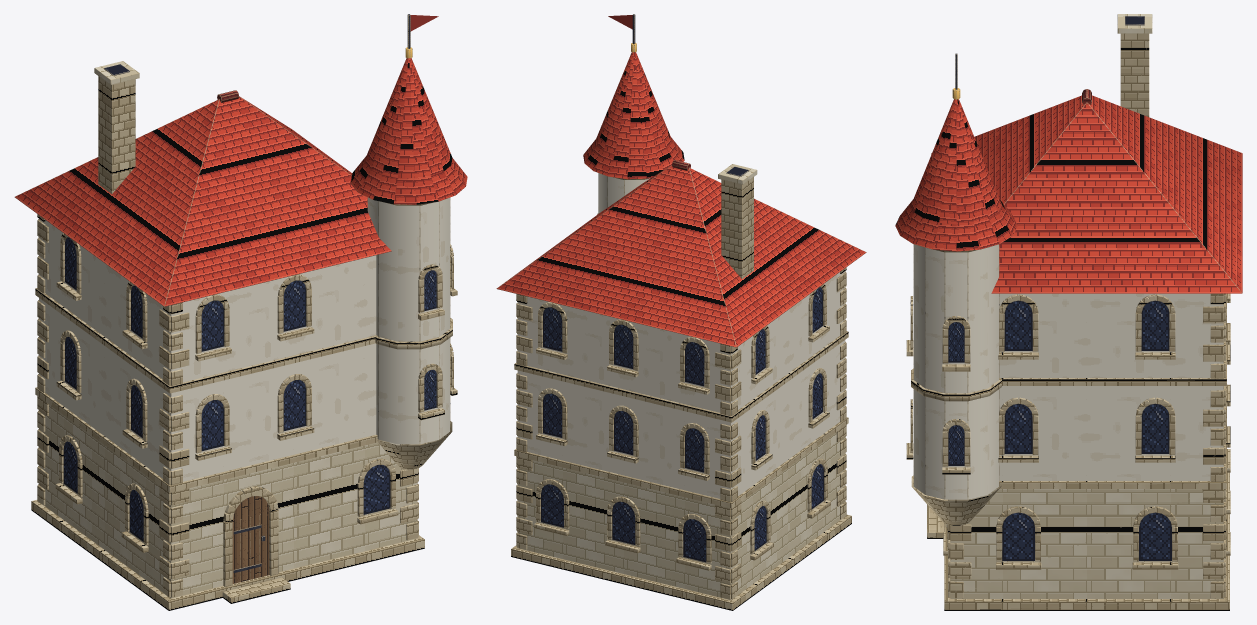
Rendered from medieval_house_0.glb.
3 renders of one model, left to right at view 1: azimuth 30°, elevation 25°; view 2: azimuth 150°, elevation 25°; view 3: azimuth 270°, elevation 25°, orthographic. The views are drawn at different scales.
Parts seen in each view (by area): view 1: medieval_house_1; view 2: medieval_house_1; view 3: medieval_house_1.
Part boxes in pixels (box(x1,y1,x2,y2)): medieval_house_1: box(14, 14, 467, 610); medieval_house_1: box(496, 14, 866, 610); medieval_house_1: box(895, 14, 1242, 610).
Size of the model in its own units: 8.75 by 14.45 by 8.25.
12 materials, 12 textured.
